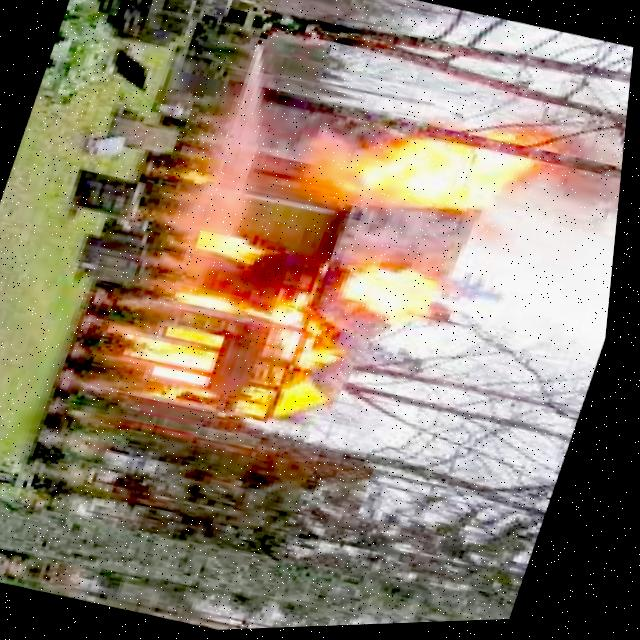Fire: (167, 200, 469, 344), (344, 94, 560, 242)
